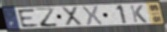1: (116, 5, 129, 25)
E: (16, 8, 41, 28)
K: (129, 5, 148, 24)
X: (81, 5, 104, 26), (61, 6, 84, 26)
Z: (34, 7, 60, 28)
